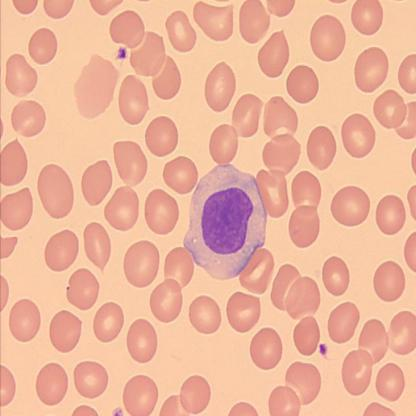Atypical lymphocyte: (183, 163, 268, 281)
